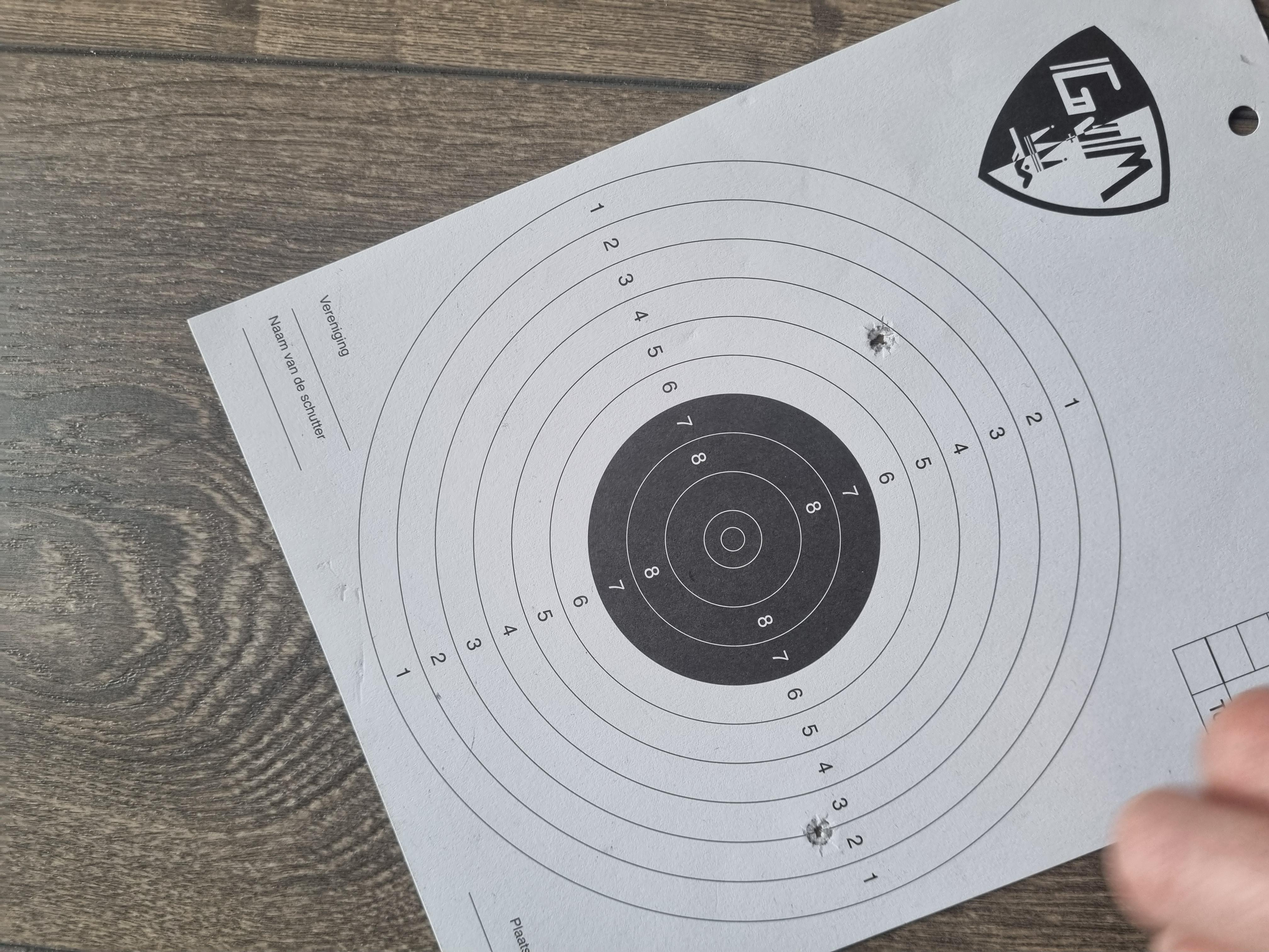hole: (796, 649, 848, 673), (127, 604, 184, 624)
